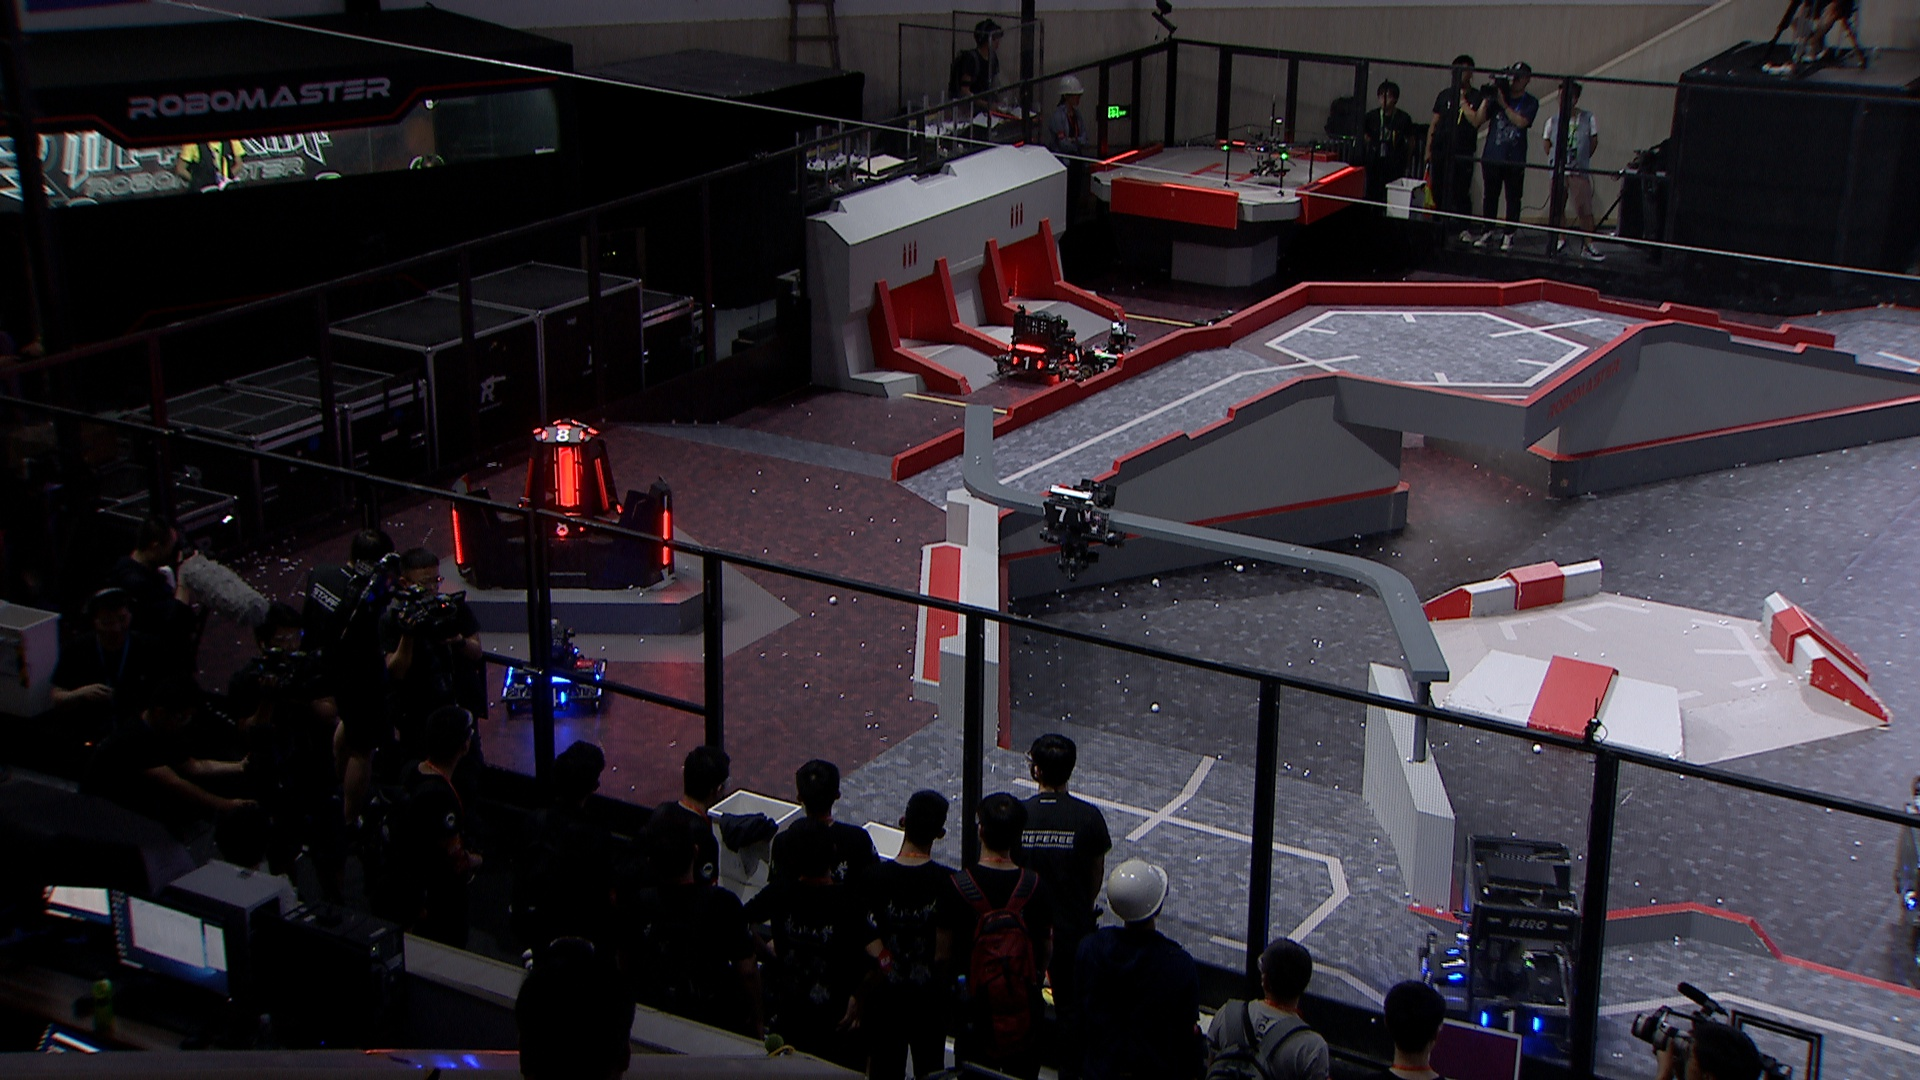armor: (551, 444, 582, 510), (1476, 1006, 1544, 1035), (589, 455, 611, 512), (448, 506, 467, 570), (1437, 945, 1468, 982), (517, 456, 535, 514), (1039, 502, 1084, 526), (659, 508, 673, 567), (549, 520, 585, 541), (538, 427, 585, 442), (1011, 353, 1043, 373), (1418, 963, 1439, 989), (1065, 345, 1087, 367), (1096, 361, 1114, 376)
base: (446, 418, 676, 593)
car: (1414, 833, 1594, 1058), (498, 616, 608, 719), (993, 306, 1088, 385), (1894, 774, 1920, 963), (1076, 320, 1149, 384)
watcher: (1035, 479, 1130, 584)
